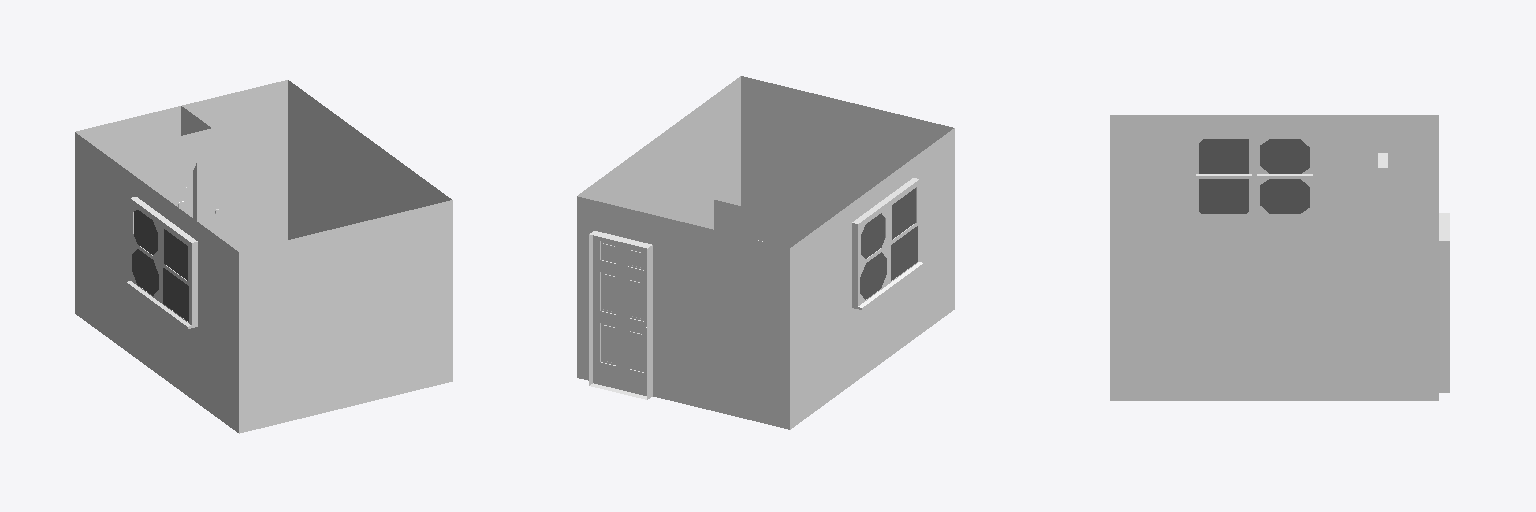
The model's file is room.obj.
3 renders of one model, left to right at view 1: azimuth 30°, elevation 25°; view 2: azimuth 150°, elevation 25°; view 3: azimuth 270°, elevation 25°, orthographic.
Parts seen in each view (by area): view 1: Mesh77 Walls1 Component_1_1 Model, Mesh1 RaisedPanel1 Large_Panel_Door_1_1 Component_1_1 Model; view 2: Mesh77 Walls1 Component_1_1 Model, Mesh1 RaisedPanel1 Large_Panel_Door_1_1 Component_1_1 Model, Mesh3 Large_Panel_Door_1_1 Component_1_1 Model; view 3: Mesh77 Walls1 Component_1_1 Model, Mesh3 Large_Panel_Door_1_1 Component_1_1 Model, Mesh29 IWC W CW Scalable_Double_Hung_Window1 Component_1_1 Model, Mesh103 IWC1 W1 CW1 Scalable_Double_Hung_Window_1_1 Component_1_, Mesh53 IBSC BS CW Scalable_Double_Hung_Window1 Component_1_1 Mod, Mesh127 IBSC1 BS1 CW1 Scalable_Double_Hung_Window_1_1 Component_.
Part boxes in pixels (x1,y1,x2,y2): Mesh77 Walls1 Component_1_1 Model: (75,80,452,433); Mesh1 RaisedPanel1 Large_Panel_Door_1_1 Component_1_1 Model: (212,115,269,251); Mesh77 Walls1 Component_1_1 Model: (577,76,954,429); Mesh1 RaisedPanel1 Large_Panel_Door_1_1 Component_1_1 Model: (593,235,646,395); Mesh3 Large_Panel_Door_1_1 Component_1_1 Model: (589,231,652,399); Mesh77 Walls1 Component_1_1 Model: (1110,115,1438,400); Mesh3 Large_Panel_Door_1_1 Component_1_1 Model: (1439,213,1449,392); Mesh29 IWC W CW Scalable_Double_Hung_Window1 Component_1_1 Model: (1208,147,1238,165); Mesh103 IWC1 W1 CW1 Scalable_Double_Hung_Window_1_1 Component_1_: (1270,147,1299,165); Mesh53 IBSC BS CW Scalable_Double_Hung_Window1 Component_1_1 Mod: (1208,187,1238,204); Mesh127 IBSC1 BS1 CW1 Scalable_Double_Hung_Window_1_1 Component_: (1270,187,1299,204).
Bounding box in the file's own units: 84.06 × 65.28 × 110.